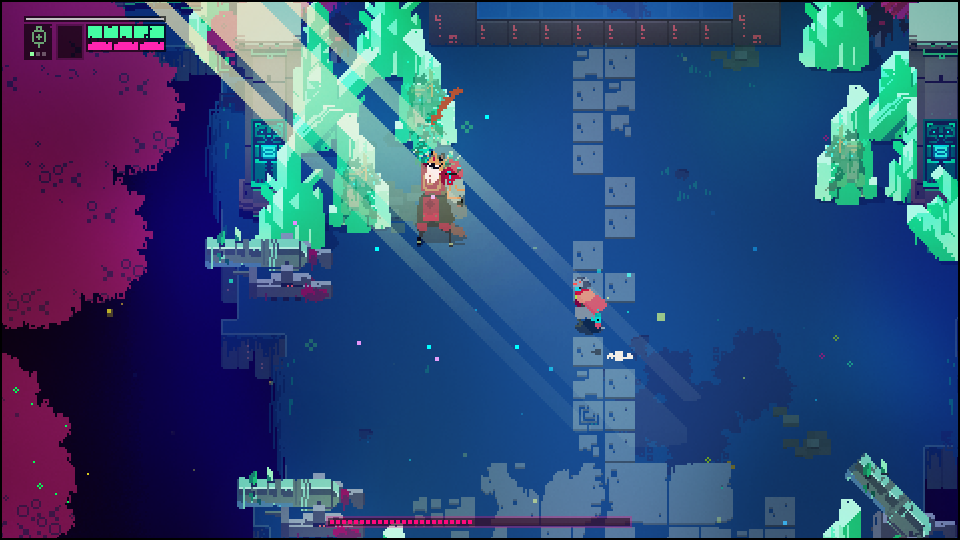hanged_man: (410, 109, 470, 249)
player: (569, 277, 607, 336)
